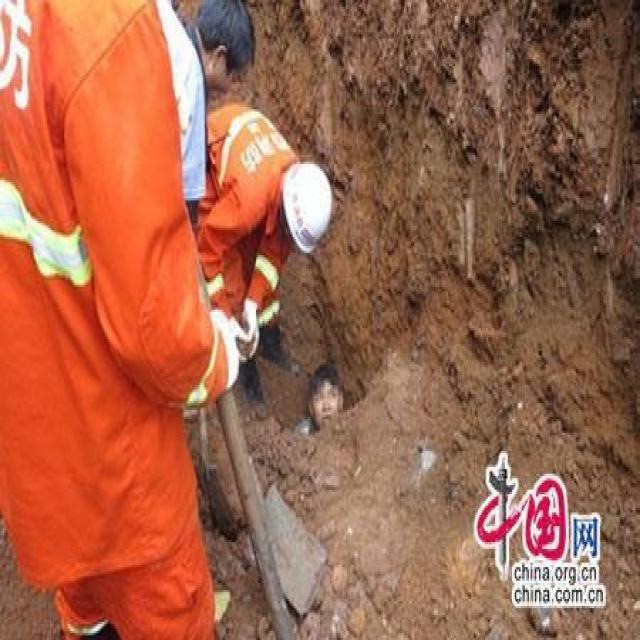helmet: (274, 162, 340, 250)
no-helmet: (184, 2, 262, 96), (304, 358, 352, 435)
